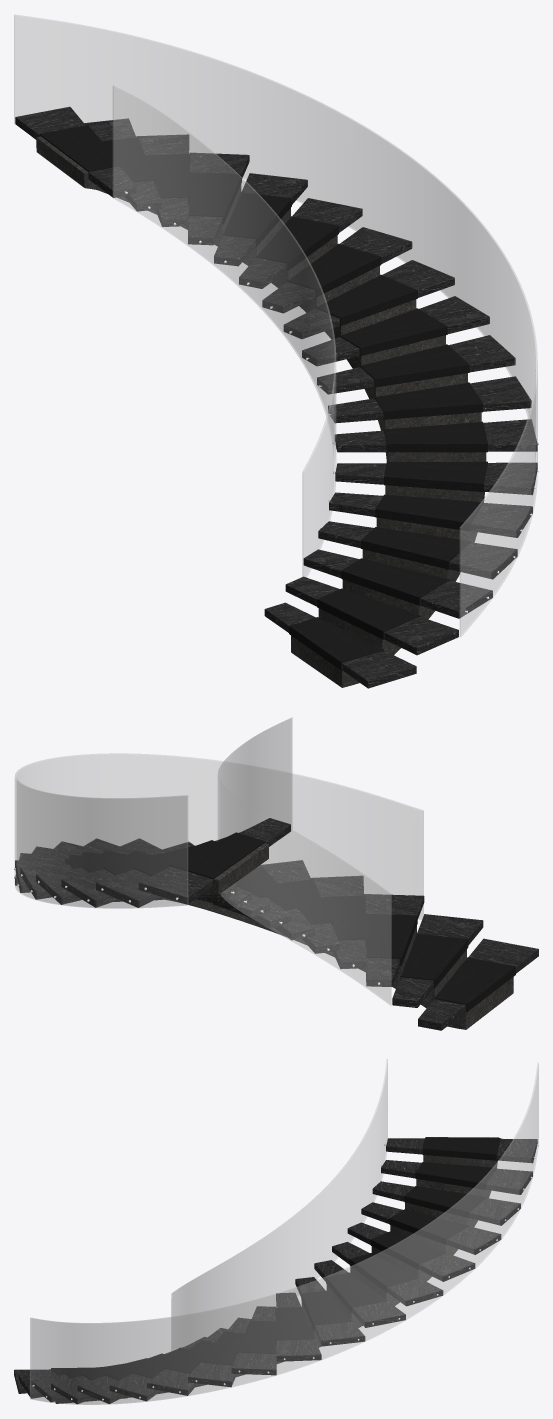
Rendered from Stairs_SemiCircle.glb.
3 renders of one model, top to bottom at view 1: azimuth 30°, elevation 25°; view 2: azimuth 150°, elevation 25°; view 3: azimuth 270°, elevation 25°, orthographic. The views are drawn at different scales.
Visible parts, largest first — view 1: Glass; view 2: Glass; view 3: Glass.
Boxes of the visible parts, x1,y1,x2,y2 form: Glass: (14,14,538,688); Glass: (14,717,538,1030); Glass: (14,1059,538,1404).
Size of the model in its own units: 3.15 by 4.31 by 6.25.
5 materials, 3 textured.
